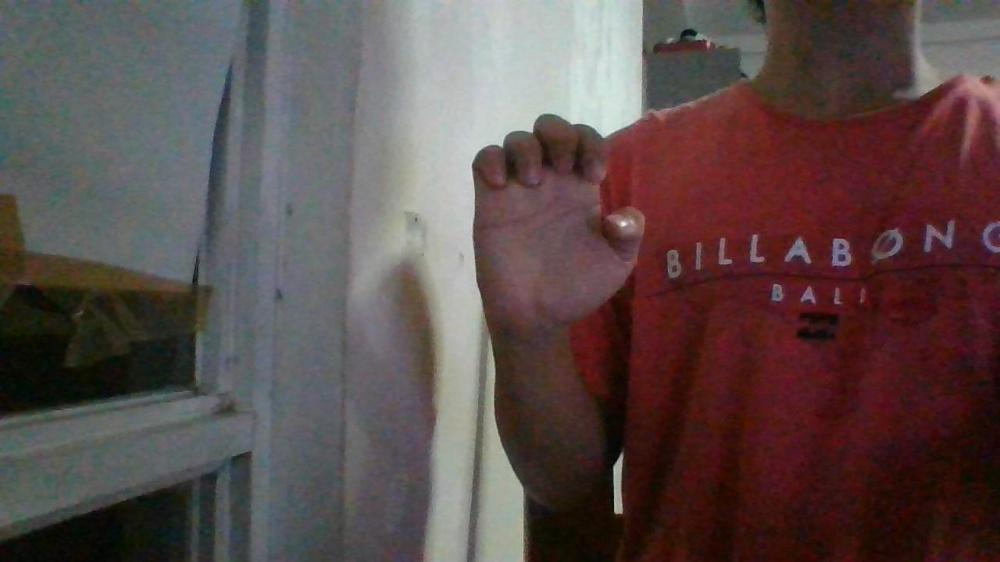e: (468, 110, 645, 327)
